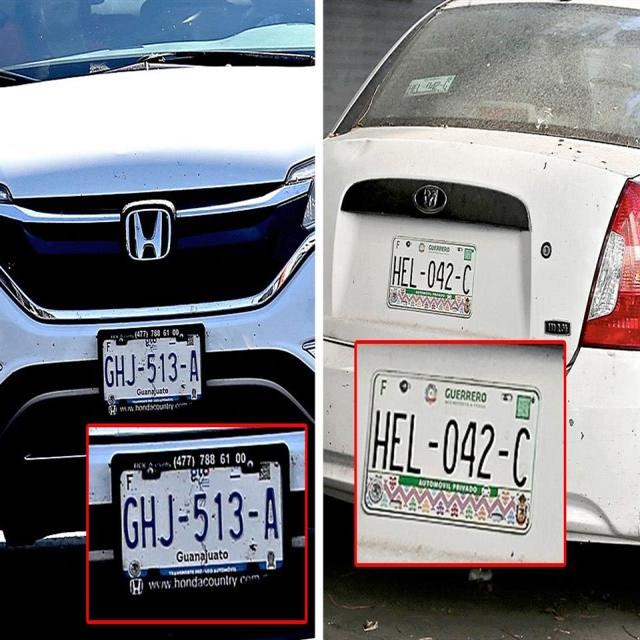placa: (364, 403, 536, 486), (120, 484, 281, 549), (390, 247, 477, 295), (101, 351, 203, 385)
